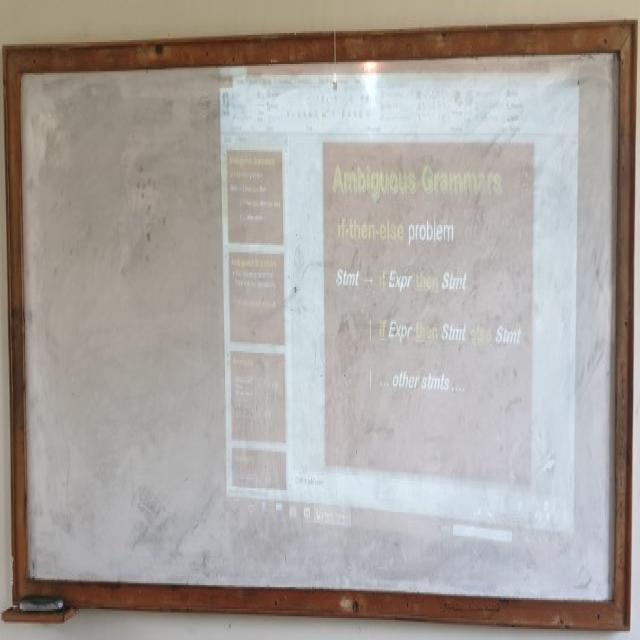Slide: (218, 61, 580, 561)
White-board: (9, 37, 629, 613)
